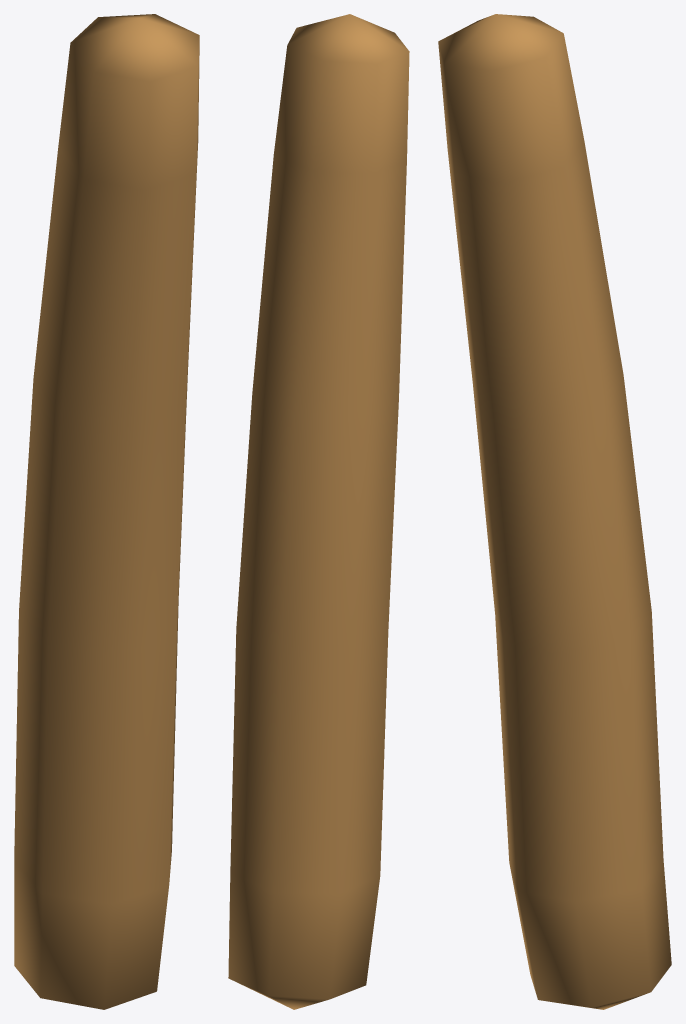
The model's file is tarsus2_T1_right_leg.obj.
3 views of the same model, side by side, from view 1: azimuth 30°, elevation 25°; view 2: azimuth 150°, elevation 25°; view 3: azimuth 270°, elevation 25° (orthographic). The views are drawn at different scales.
Size of the model in its own units: 0.00267 by 0.0187 by 0.00398.
